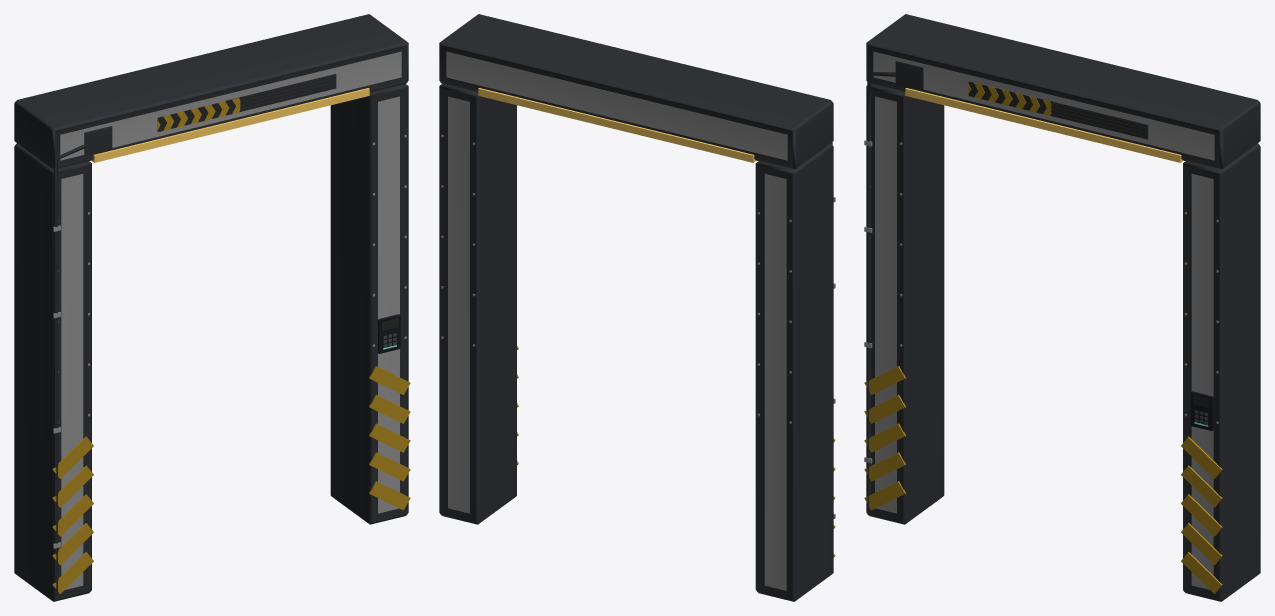
The model's file is DoorFrame_2x3.fbx.
The picture shows the model from 3 angles, left to right: view 1: azimuth 30°, elevation 25°; view 2: azimuth 150°, elevation 25°; view 3: azimuth 330°, elevation 25°; orthographic projection.
Parts seen in each view (by area): view 1: DoorFrame_2x3_LOD0; view 2: DoorFrame_2x3_LOD0; view 3: DoorFrame_2x3_LOD0.
Part boxes in pixels (x1,y1,x2,y2): DoorFrame_2x3_LOD0: (14,14,410,601); DoorFrame_2x3_LOD0: (439,14,835,601); DoorFrame_2x3_LOD0: (864,14,1260,601).
Size of what is drawn, in the model's own units: 2.6 by 3.3 by 0.522.
